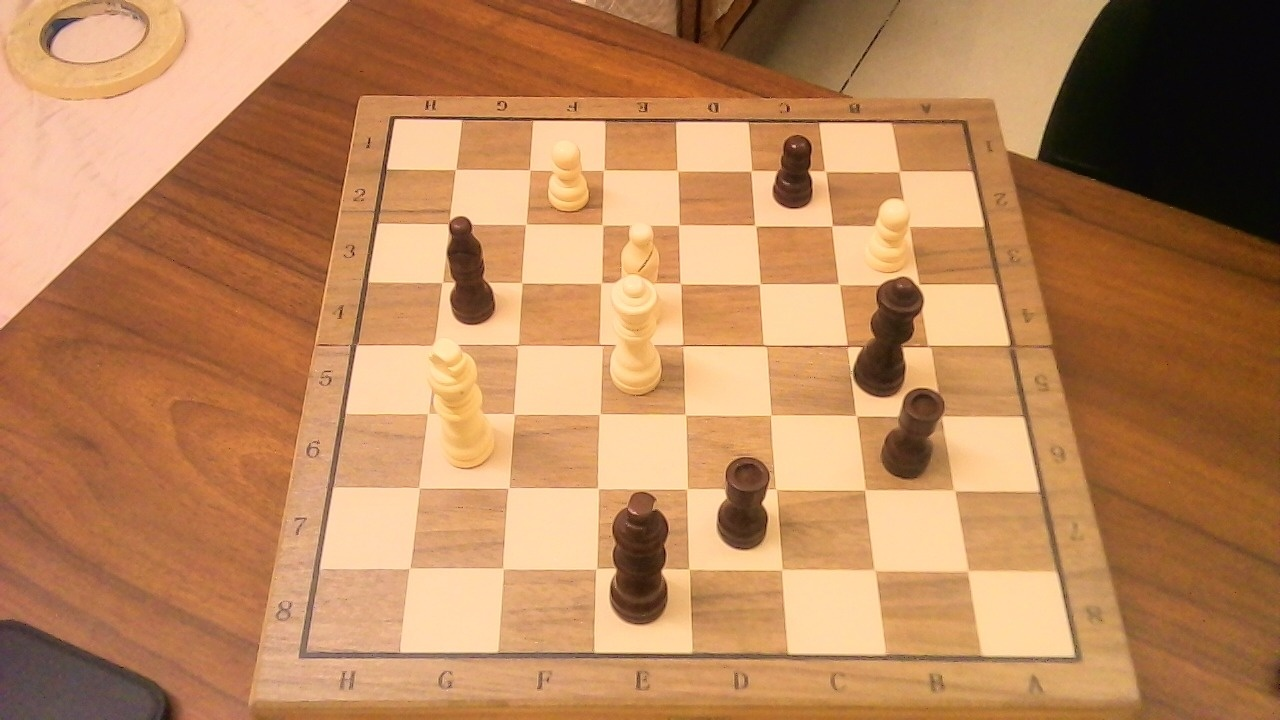B: (608, 212, 669, 316)
K: (423, 325, 503, 473)
P: (857, 189, 918, 276), (538, 131, 595, 215)
Q: (604, 263, 672, 399)
b: (442, 204, 508, 329)
k: (602, 475, 686, 630)
p: (765, 124, 825, 213)
q: (852, 262, 936, 401)
r: (875, 374, 955, 483), (709, 444, 781, 554)
